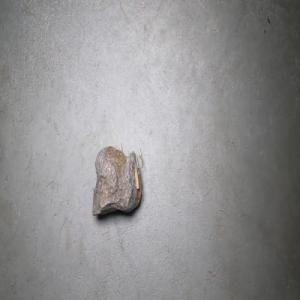Rock: (92, 142, 143, 216)
